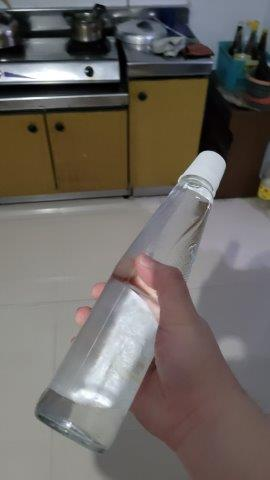botolkaca: (32, 151, 226, 453)
